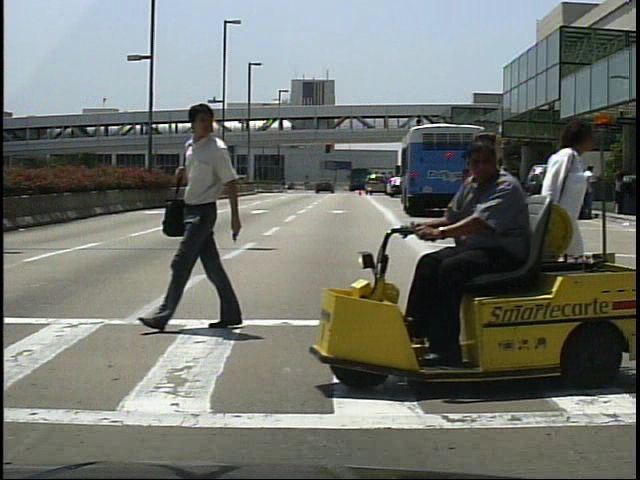person: (410, 136, 540, 370), (147, 96, 253, 331), (517, 110, 599, 366), (443, 125, 507, 357), (499, 191, 537, 326), (582, 165, 602, 220), (500, 166, 518, 218), (488, 163, 507, 212)
